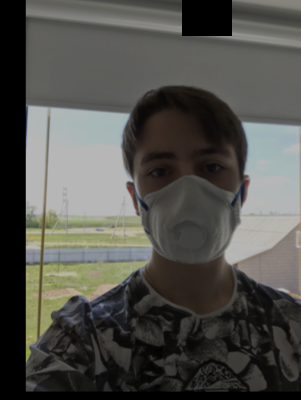with_mask: (134, 130, 243, 262)
